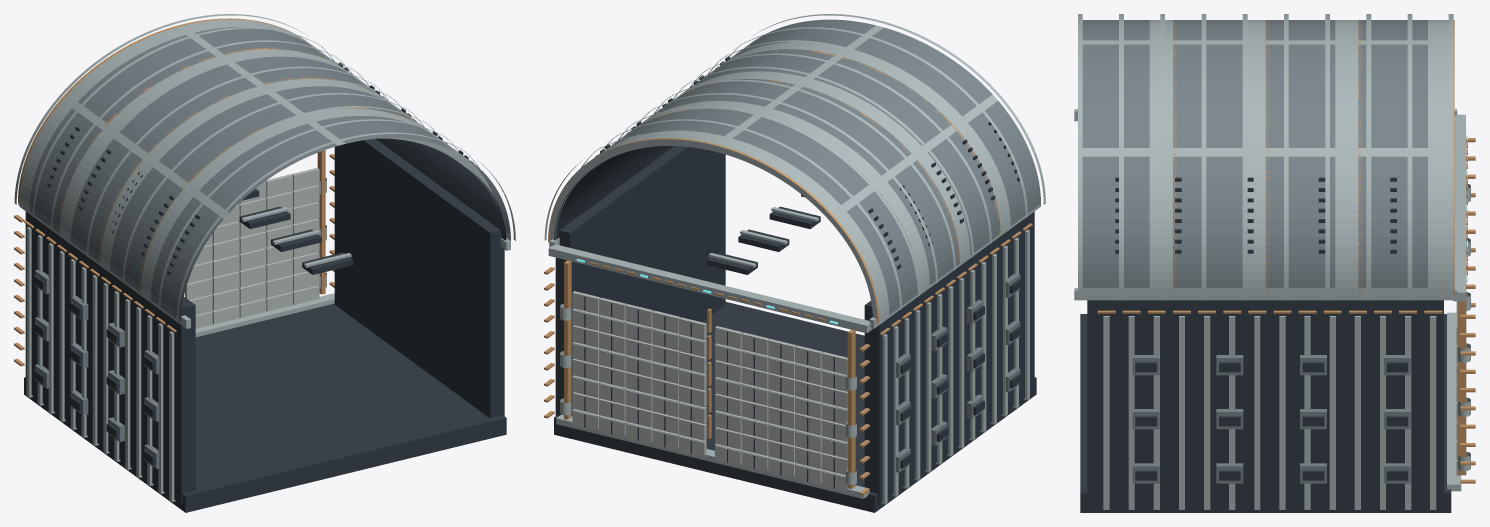
File: industrial_hangar_r8.gltf
The picture shows the model from 3 angles, left to right: view 1: azimuth 30°, elevation 25°; view 2: azimuth 150°, elevation 25°; view 3: azimuth 270°, elevation 25°; orthographic projection. The views are drawn at different scales.
Parts seen in each view (by area): view 1: NEBULA_R8_Hangar_36m; view 2: NEBULA_R8_Hangar_36m; view 3: NEBULA_R8_Hangar_36m.
Part boxes in pixels (x1,y1,x2,y2): NEBULA_R8_Hangar_36m: (14, 14, 515, 512); NEBULA_R8_Hangar_36m: (544, 14, 1045, 512); NEBULA_R8_Hangar_36m: (1074, 14, 1475, 512).
Bounding box in the file's own units: 37.5 × 35.4 × 33.55.
